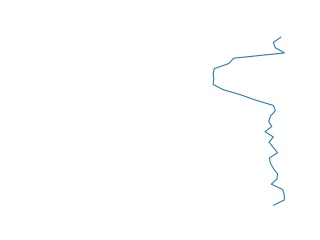distalBar: (205, 37, 293, 206)
